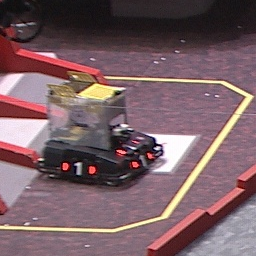Red: (60, 159, 96, 178), (116, 140, 141, 158), (131, 152, 154, 169)
Robot: (32, 72, 165, 189)
